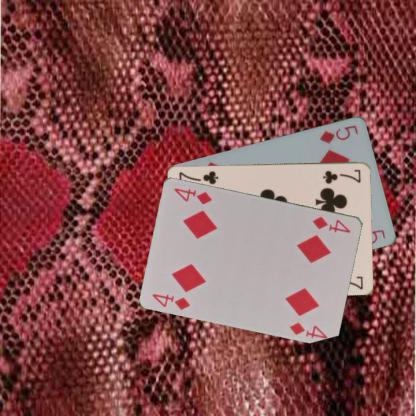4d: (310, 213, 352, 234), (150, 290, 192, 310)
5d: (318, 122, 360, 145)
7c: (321, 166, 362, 184)
